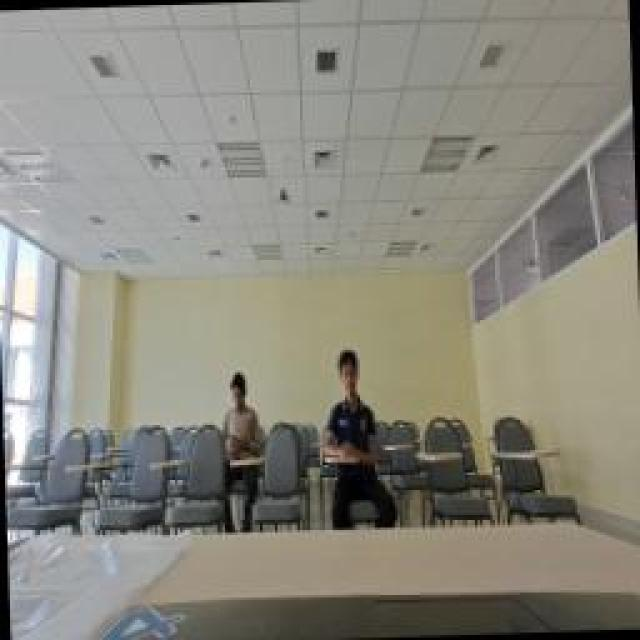phone: (215, 368, 263, 460)
study: (318, 350, 380, 465)
